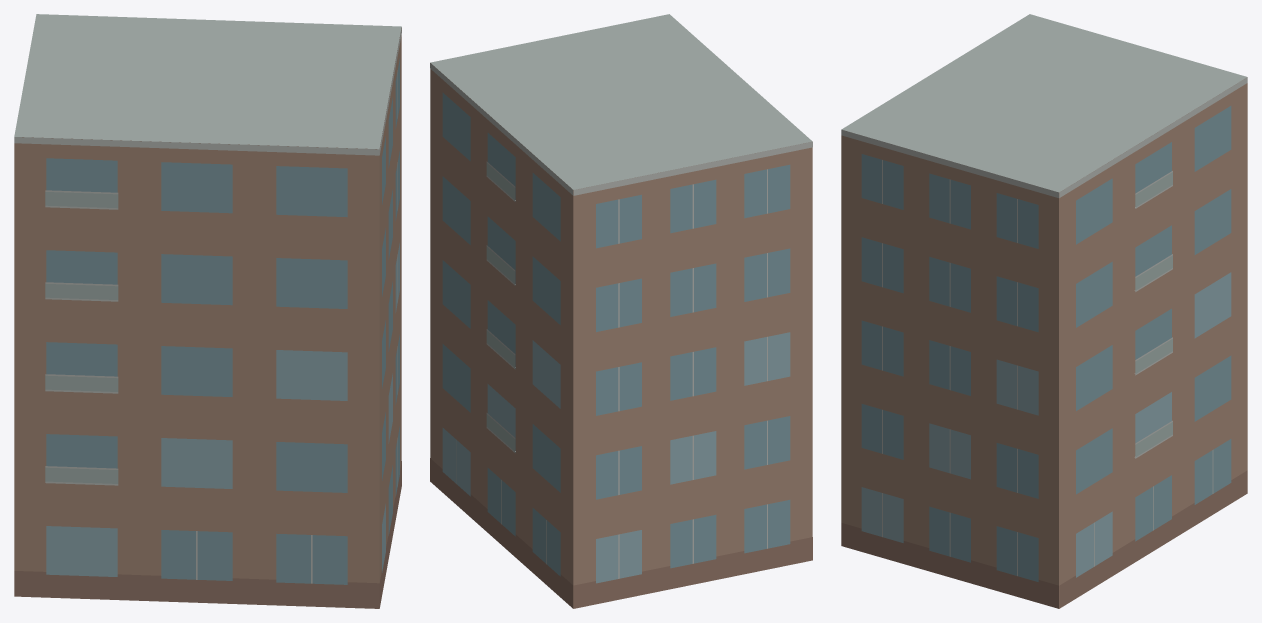
Rendered from survey-upis-32537085.glb.
The picture shows the model from 3 angles, left to right: view 1: azimuth 30°, elevation 25°; view 2: azimuth 150°, elevation 25°; view 3: azimuth 270°, elevation 25°; orthographic projection. The views are drawn at different scales.
Visible parts, largest first — view 1: survey-upis-32537085.tmp; view 2: survey-upis-32537085.tmp; view 3: survey-upis-32537085.tmp.
Part boxes in pixels (x1=…): survey-upis-32537085.tmp: x1=14, y1=14, x2=401, y2=608; survey-upis-32537085.tmp: x1=430, y1=14, x2=812, y2=608; survey-upis-32537085.tmp: x1=841, y1=14, x2=1247, y2=608.
Bounding box in the file's own units: 16 × 17.4 × 15.4.
